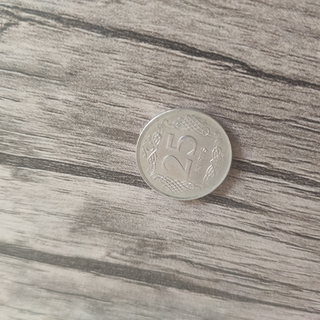25KURUS: (134, 105, 233, 202)
